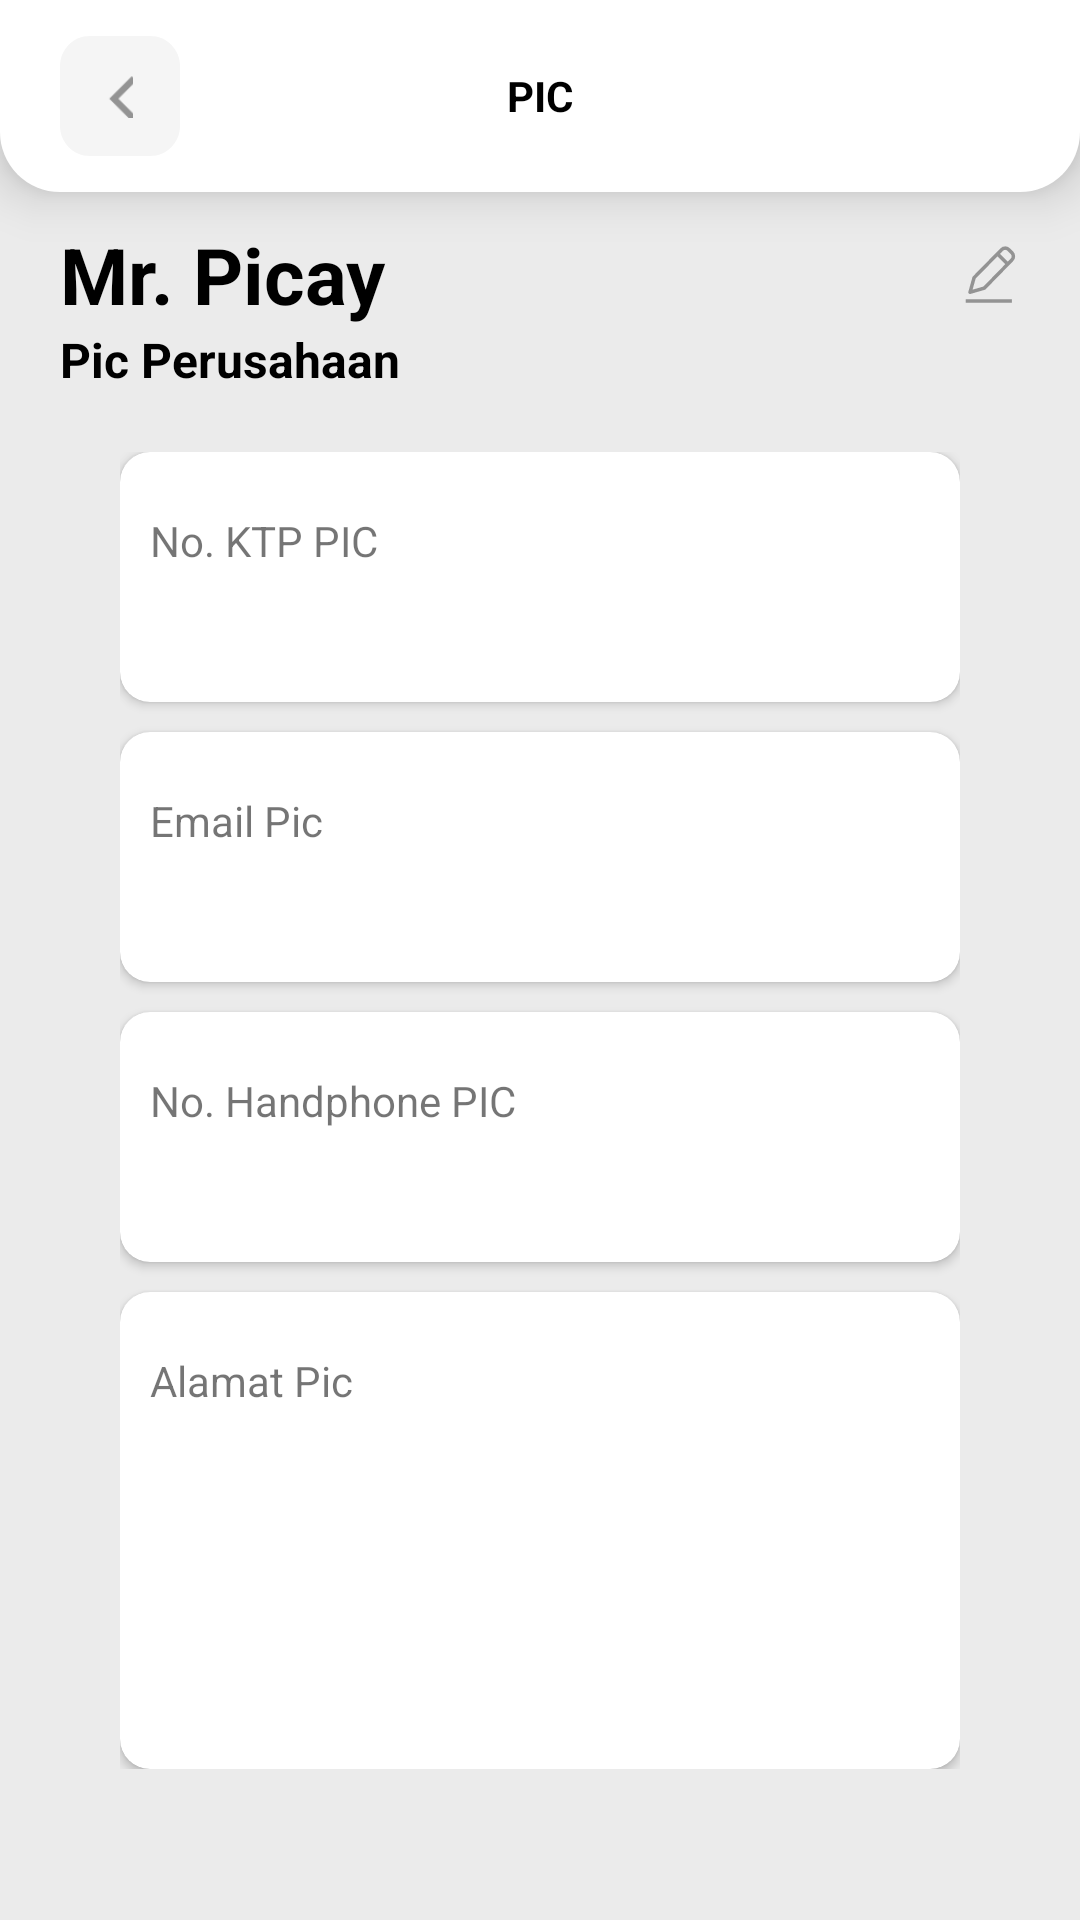

Icon click points for this 1080×1920 phone screenshot, format point (x, y):
back: point (121, 97)
edit: point (990, 274)
